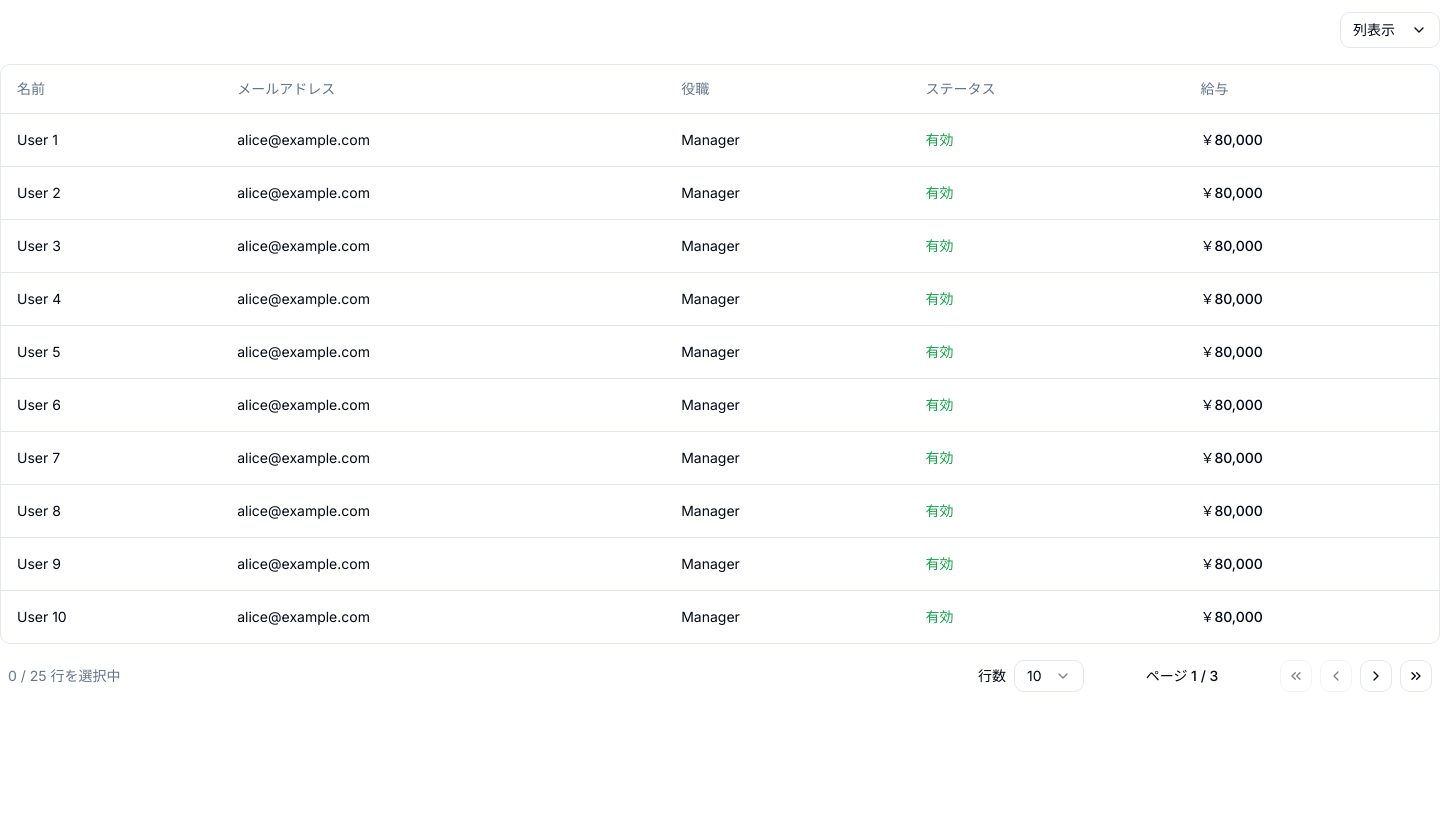
Test: DataTable › Pagination › first and last page buttons work
Go to last page
Step 1. Click the 4th button named "最後のページに移動" → point(1416, 676), box [1400,660,1432,692]
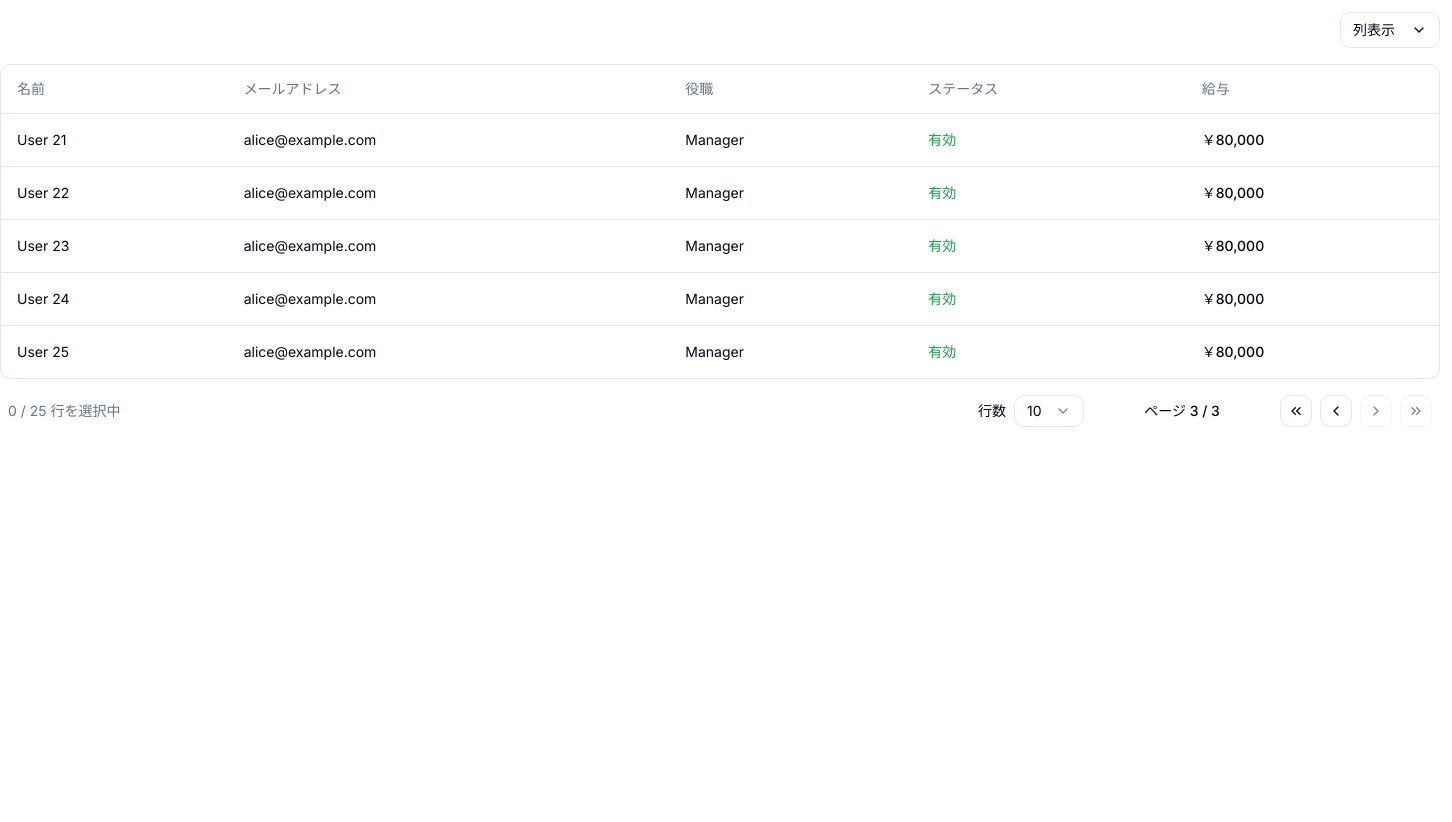
Now the text "User 21" is shown, box [1,113,228,166]
Go back to first page
Step 2. Click the 1st button named "最初のページに移動" → point(1296, 410), box [1280,394,1312,426]
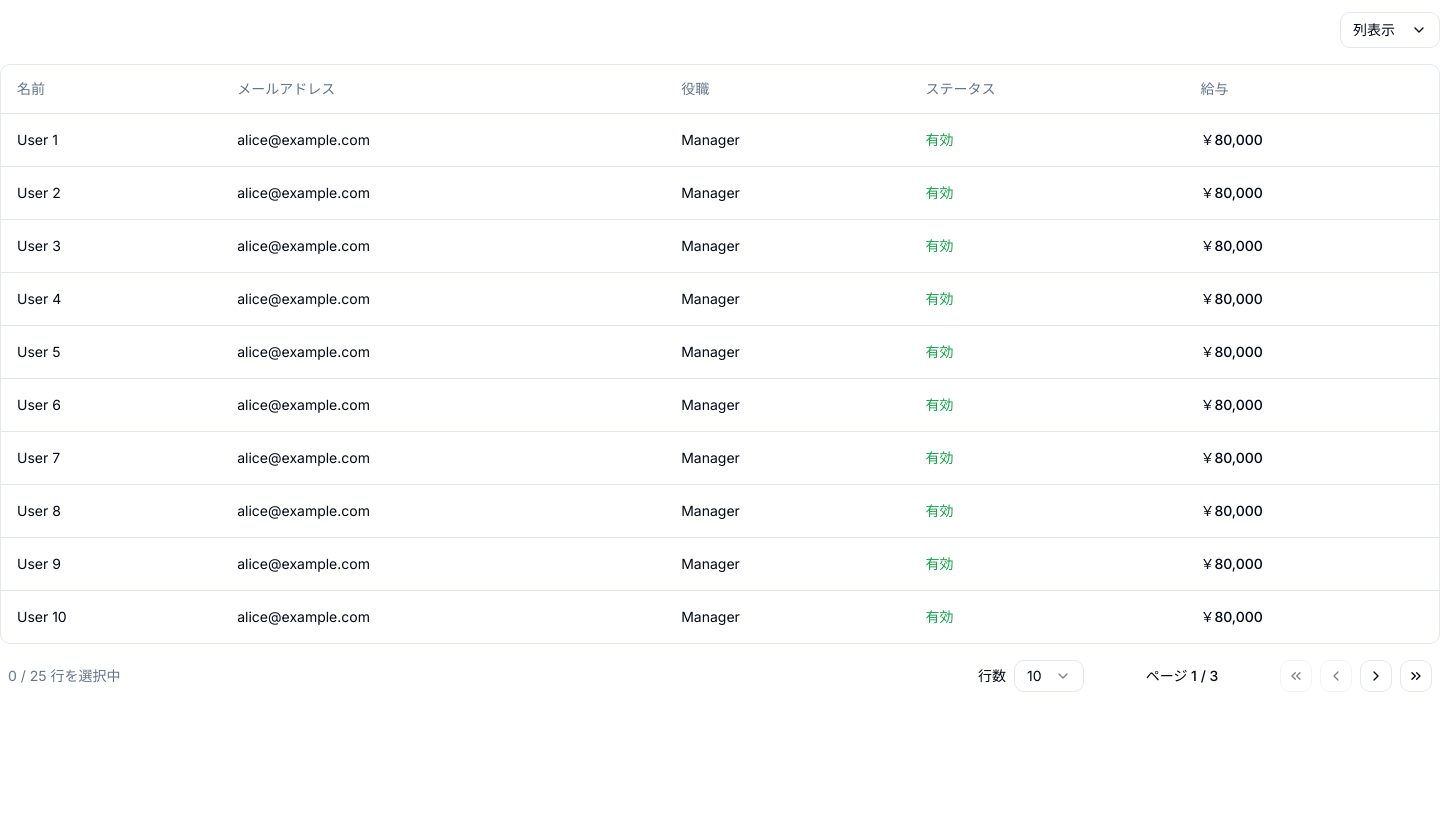
Now the text "User 1" is shown, box [1,113,221,166]
